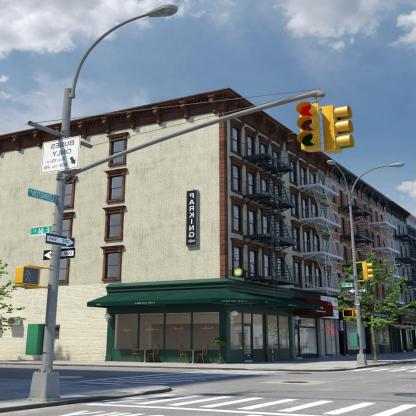Streetlights 1: (0, 0, 328, 416)
